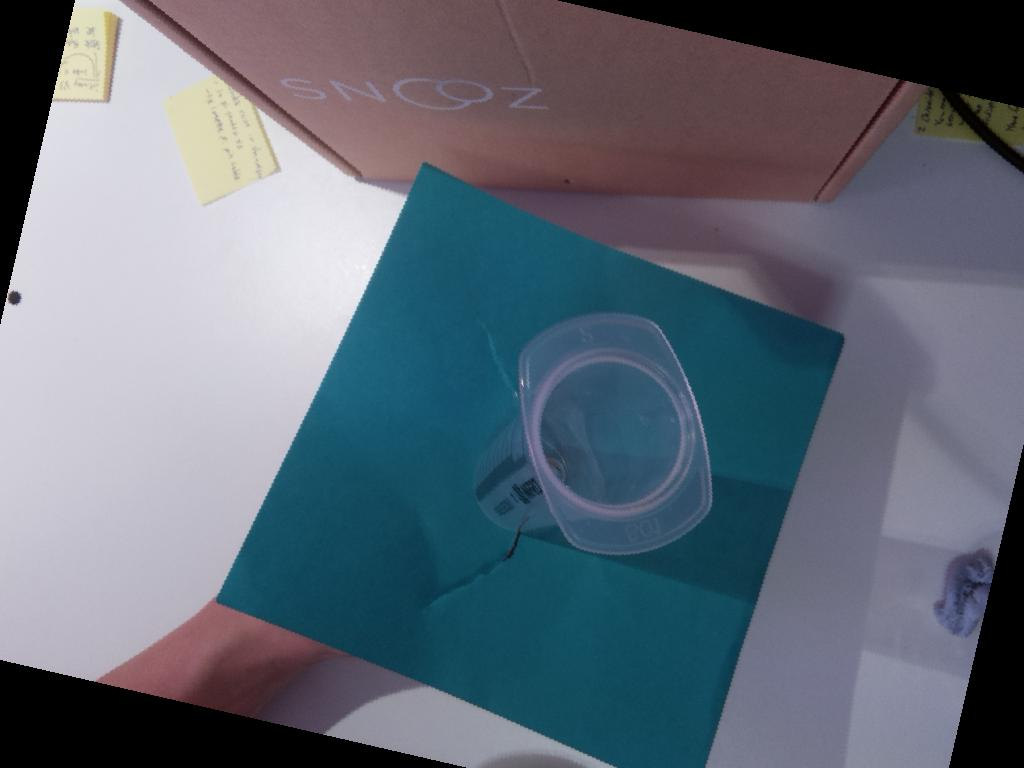clean: (517, 309, 716, 555)
